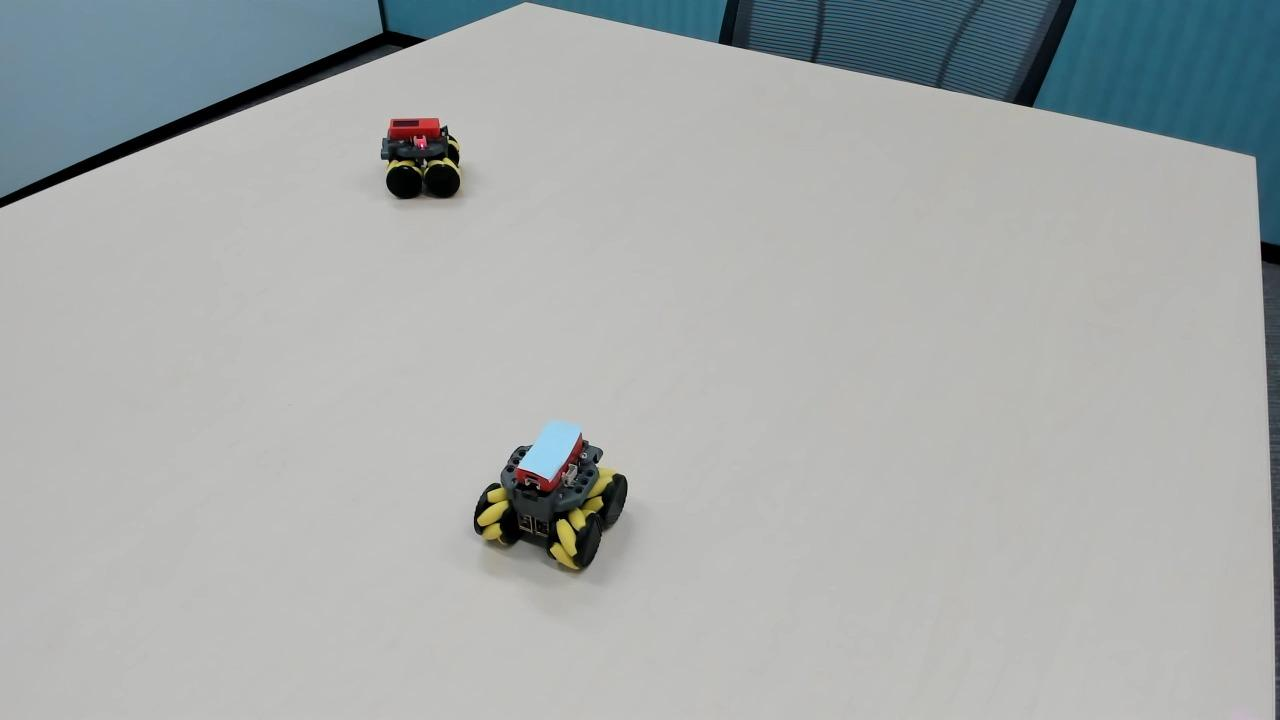B-Robot: (440, 414, 649, 579)
R-Robot: (372, 111, 472, 210)
